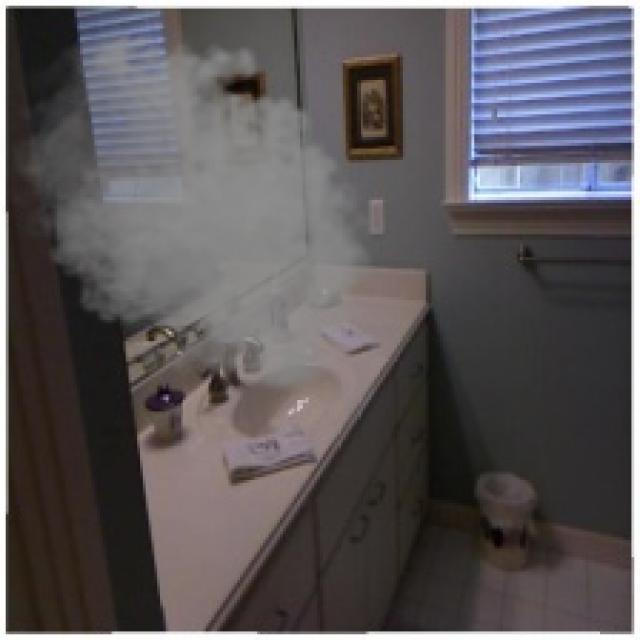smoke: (0, 20, 383, 397)
